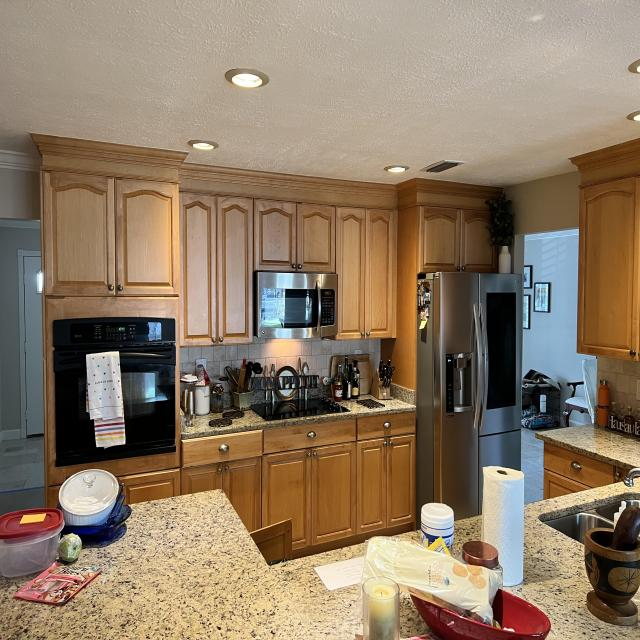Appliance_Fridge: (417, 271, 524, 523)
Appliance_Microwave: (254, 267, 338, 341)
Appliance_Oven: (49, 317, 176, 467)
Appliance_Stove: (251, 396, 349, 420)
Cabinet_Flat: (183, 413, 417, 466), (545, 445, 614, 486)
Cabinet_Raised_Panel: (31, 136, 496, 390), (121, 435, 417, 565), (570, 138, 640, 362)
Countertop_Granite: (0, 489, 367, 640), (520, 426, 640, 640), (183, 399, 413, 438), (453, 516, 482, 555)
